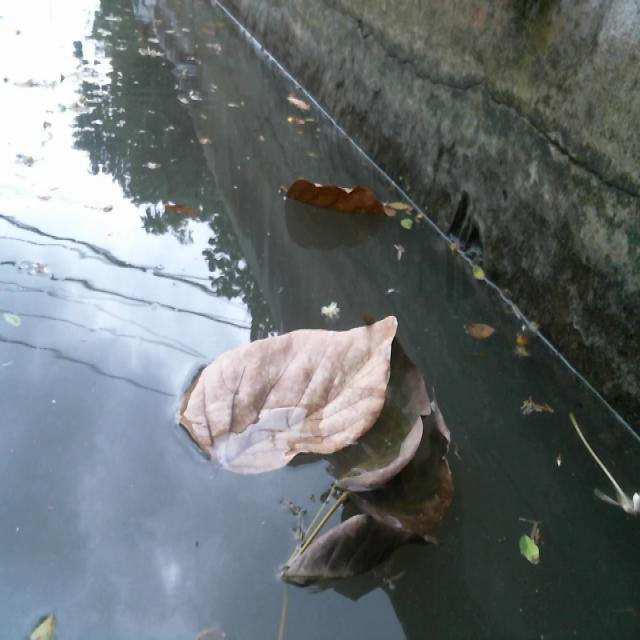Big-leaf: (172, 304, 469, 596), (275, 170, 413, 254)
Small-leaf: (509, 522, 554, 574), (22, 600, 72, 640), (459, 313, 498, 349), (165, 188, 204, 223), (520, 397, 557, 429), (511, 330, 539, 368), (284, 89, 314, 117), (138, 42, 168, 65), (473, 266, 486, 285), (451, 239, 461, 253)
